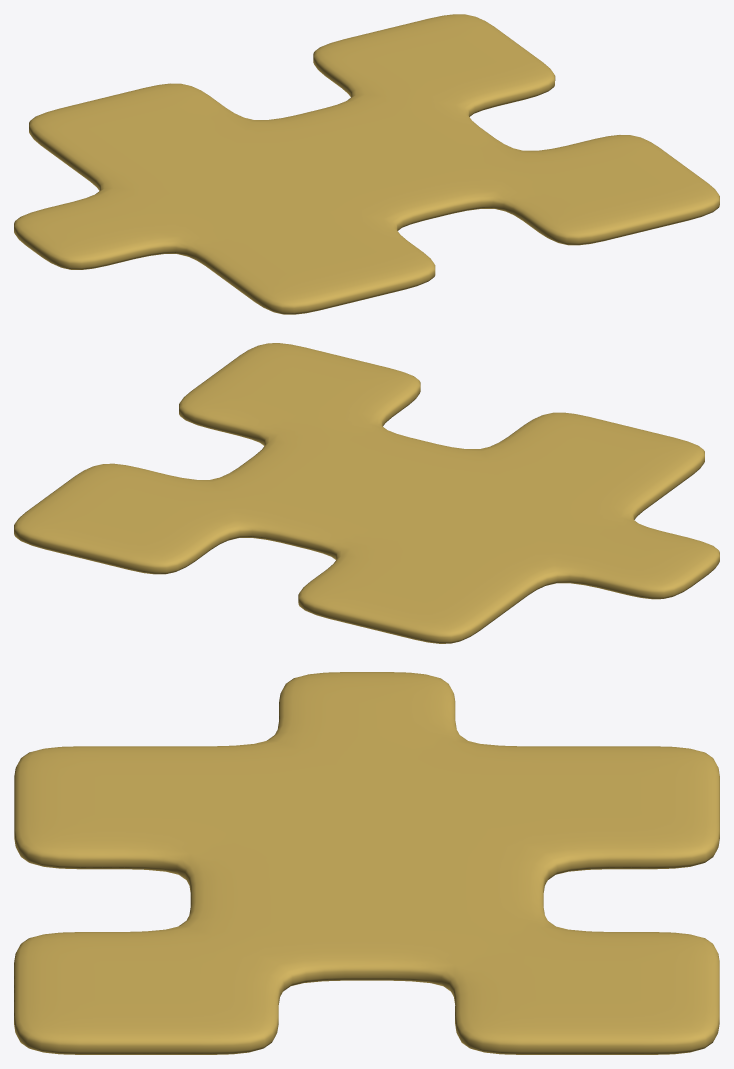
Rendered from GoldenPuzzle-01-MFFF.fbx.
3 views of the same model, one above another, from view 1: azimuth 30°, elevation 25°; view 2: azimuth 150°, elevation 25°; view 3: azimuth 270°, elevation 25° (orthographic). The views are drawn at different scales.
Visible parts, largest first — view 1: Puzzle_001; view 2: Puzzle_001; view 3: Puzzle_001.
Part boxes in pixels (x1,y1,x2,y2): Puzzle_001: (14, 14, 719, 314); Puzzle_001: (14, 343, 719, 643); Puzzle_001: (14, 672, 719, 1054).
Size of the model in its own units: 0.3125 by 0.00924 by 0.251.
